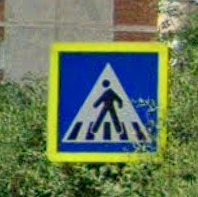trecere_pietoni: (47, 39, 169, 165)
